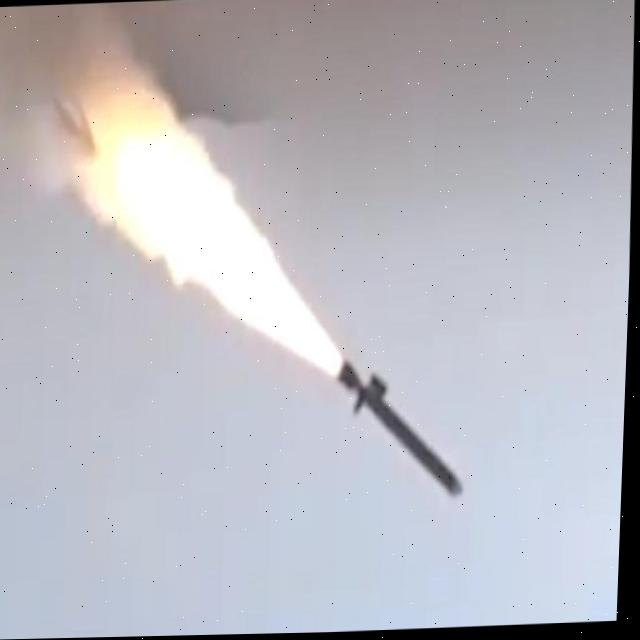missile: (325, 357, 473, 504)
